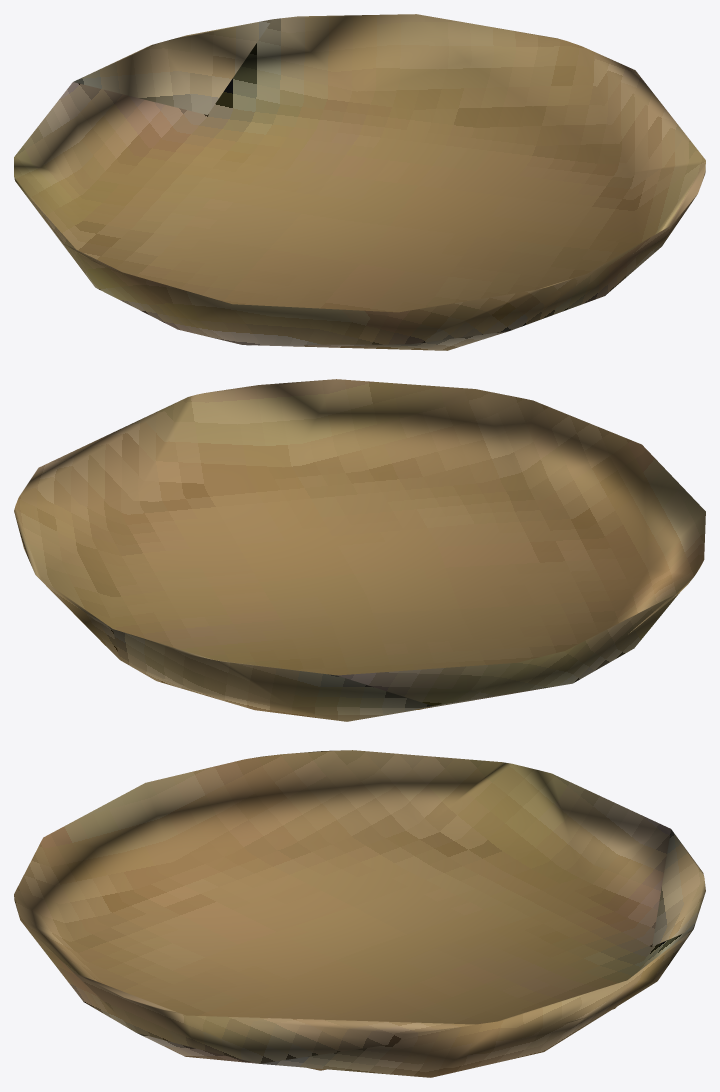
File: Ecoforms_Plant_Container_S24NATURAL-low.glb
The picture shows the model from 3 angles, top to bottom: view 1: azimuth 30°, elevation 25°; view 2: azimuth 150°, elevation 25°; view 3: azimuth 270°, elevation 25°; orthographic projection.
Parts seen in each view (by area): view 1: Ecoforms_Plant_Container_S24NATURAL; view 2: Ecoforms_Plant_Container_S24NATURAL; view 3: Ecoforms_Plant_Container_S24NATURAL.
Boxes of the visible parts, left/top/right/bottom form: Ecoforms_Plant_Container_S24NATURAL: left=14, top=14, right=705, bottom=350; Ecoforms_Plant_Container_S24NATURAL: left=14, top=379, right=705, bottom=721; Ecoforms_Plant_Container_S24NATURAL: left=14, top=750, right=705, bottom=1077.
Bounding box in the file's own units: 0.2403 × 0.0328 × 0.2408.
Materials: 1 (1 with a texture image).
